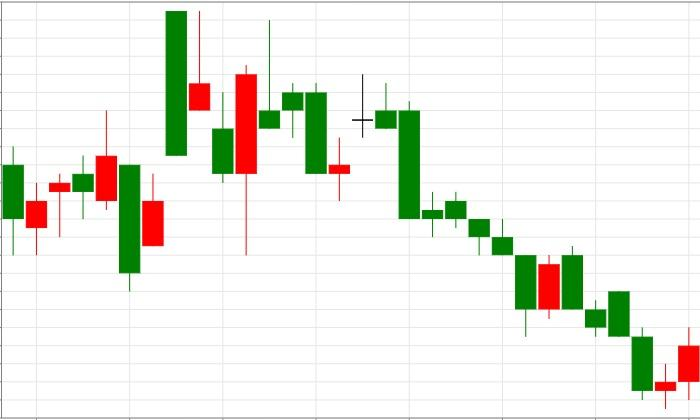morning_star_rise: (562, 245, 699, 409)
